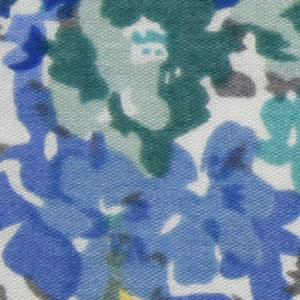Stain: (99, 201, 146, 300)
